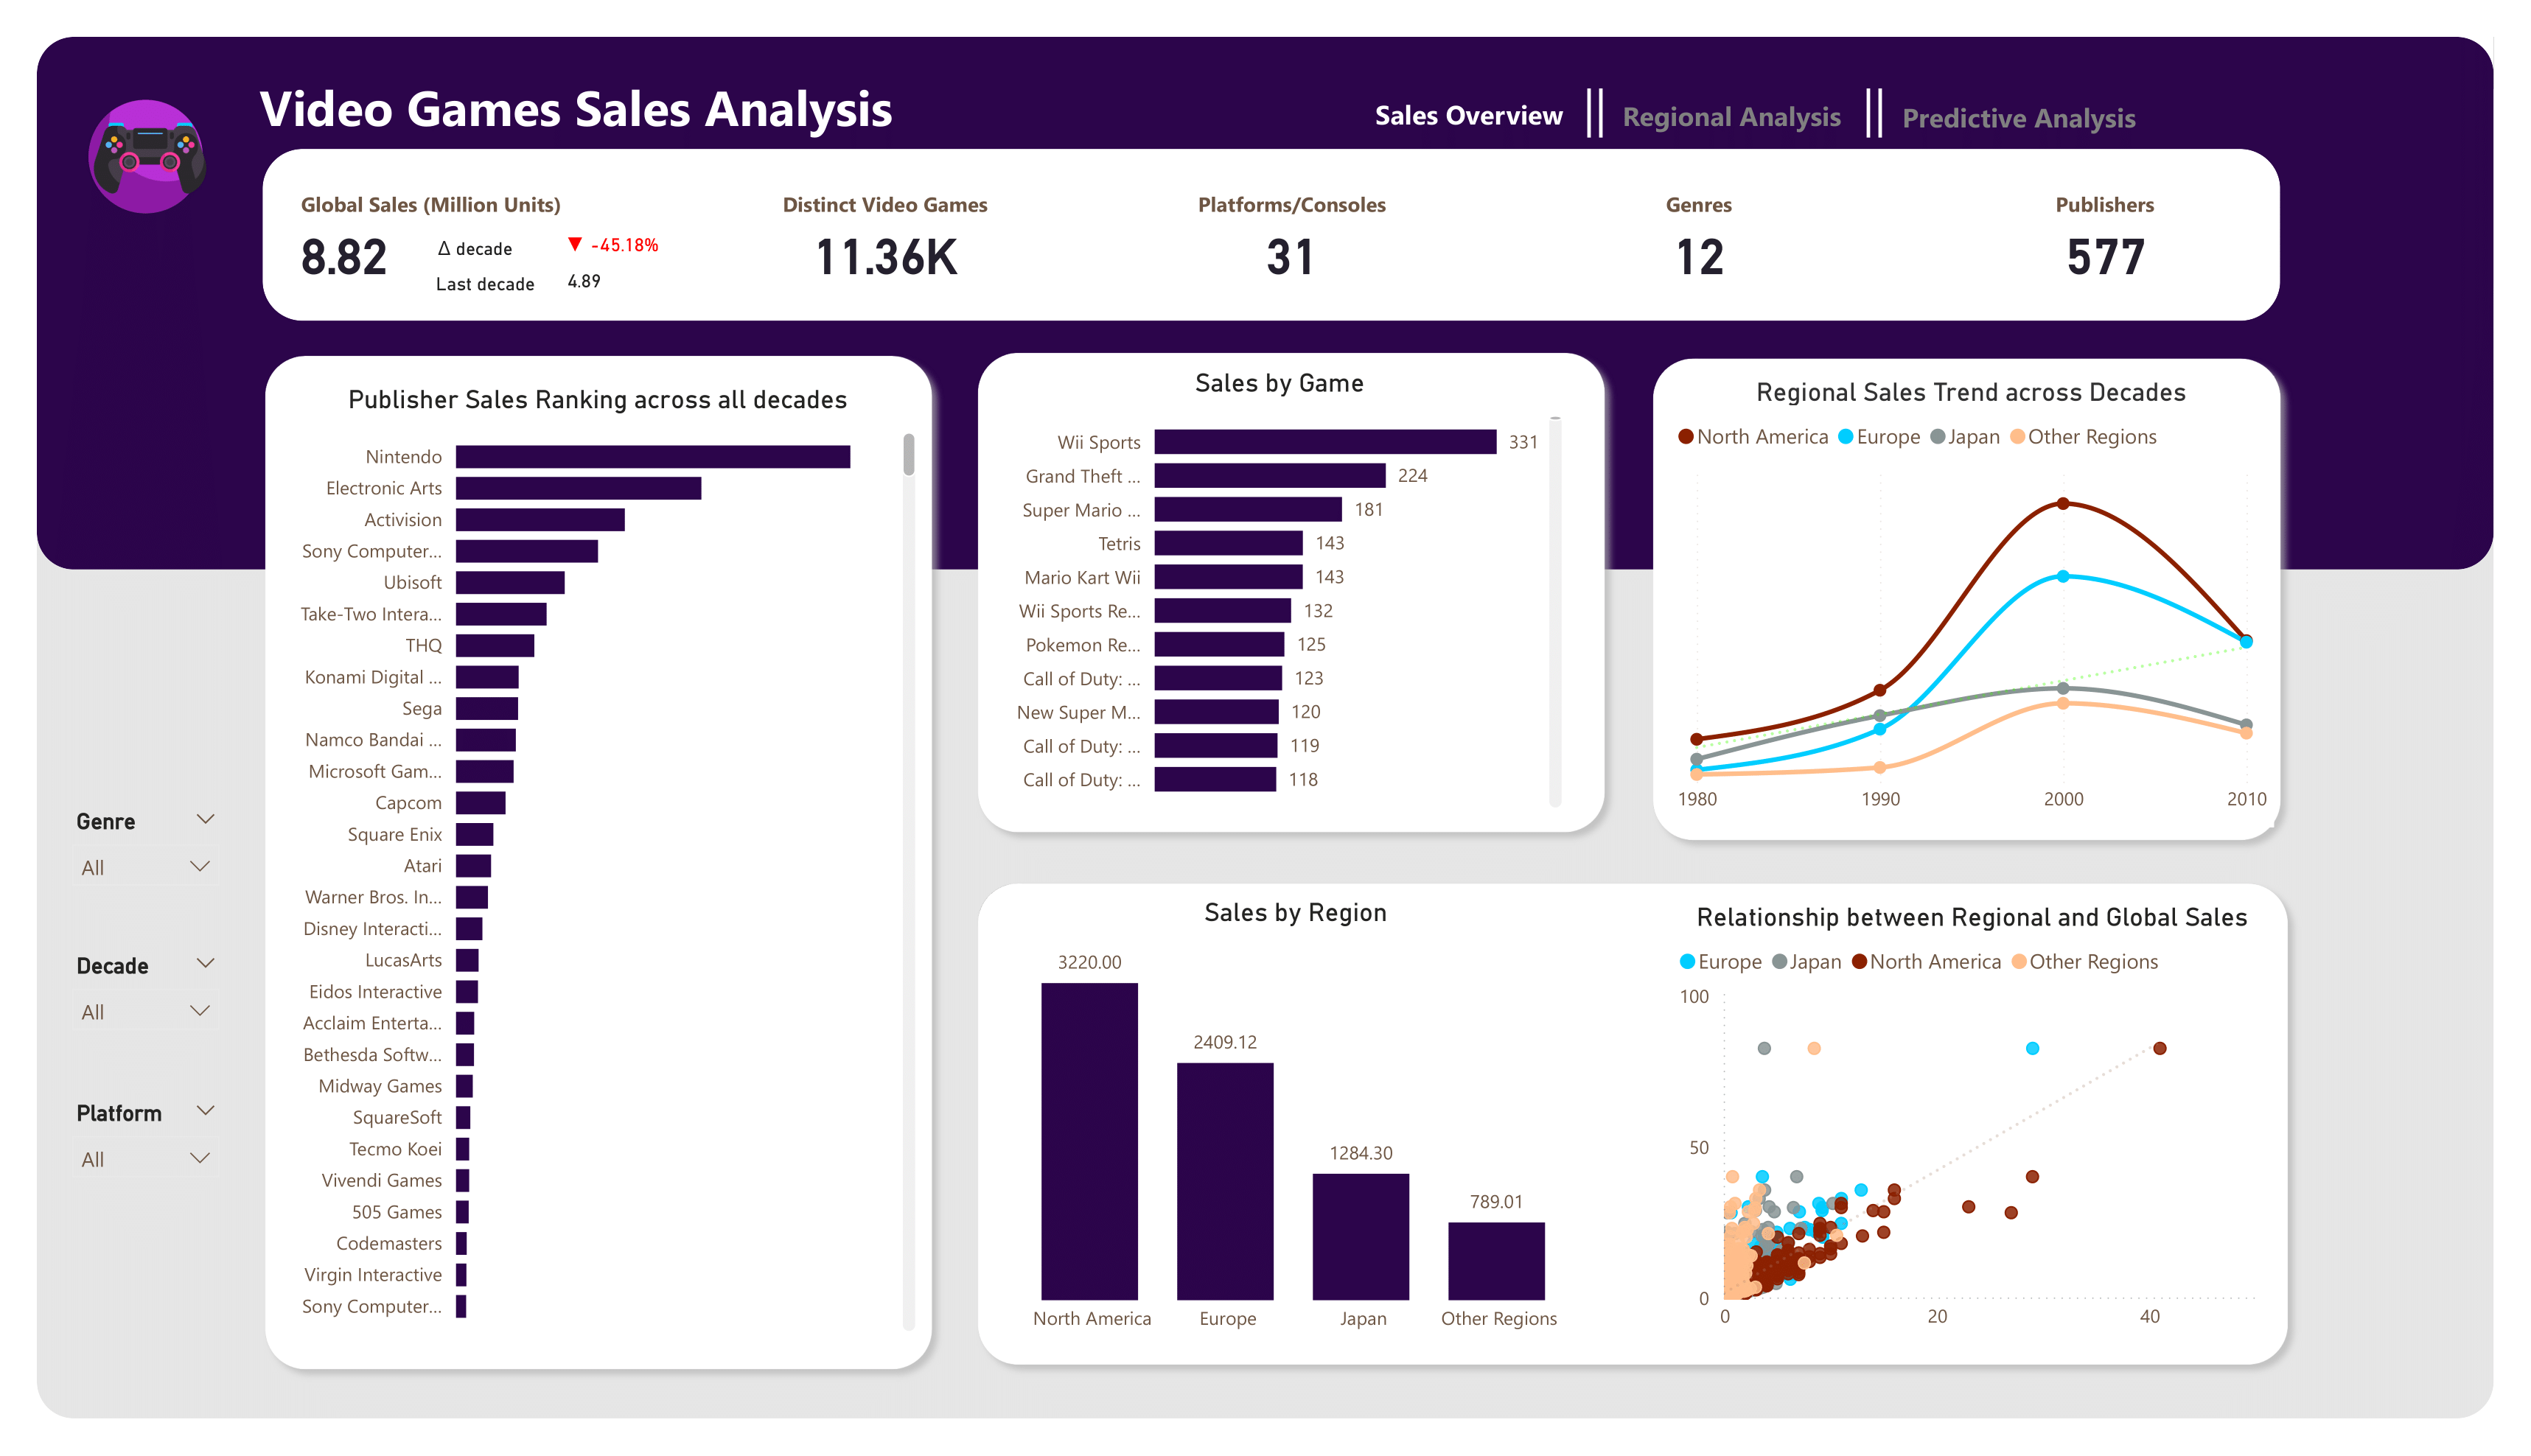

The page's visual inventory and layout, read from the dashboard file:
{"tool":"powerbi","page":{"name":"Global Sales analysis","canvas":[1600,900],"ordinal":0},"visuals":[{"type":"group","id":"g1","title":"wireframe","box":[0,0,1600,900],"z":0},{"type":"actionButton","title":"P.A Button","box":[1196.2,30.7,190,40],"z":0,"group":"g5"},{"type":"cardVisual","fields":{"Data":["vgsales.global_kpi_dax"]},"box":[155,82.5,264.9,107],"z":0,"group":"g2"},{"type":"cardVisual","title":"video games kpi","fields":{"Data":["Count(vgsales.Name)"]},"box":[419.9,82.5,264.9,107],"z":0,"group":"g6"},{"type":"card","fields":{"Values":["vgsales.global_label_DoD"]},"box":[334.6,121.5,80.5,24],"z":0,"group":"g3"},{"type":"shape","box":[0,202,1600,698],"z":0,"group":"g1"},{"type":"slicer","fields":{"Values":["YearRangeSort.year_range"]},"box":[12.9,592.3,116,68],"z":0,"group":"g4"},{"type":"shape","box":[0,0,1600,346.7],"z":1000,"group":"g1"},{"type":"actionButton","title":"Global Button","box":[840,29.4,186.2,40],"z":1000,"group":"g5"},{"type":"group","id":"g2","title":"global sales kpi","box":[155,82.5,264.9,107],"z":1000,"group":"g6"},{"type":"group","id":"g3","title":"kpi sales description","box":[255.3,121.5,159.8,52.6],"z":1000,"group":"g2"},{"type":"card","fields":{"Values":["vgsales.global_PD"]},"box":[334.2,144.8,44.8,22.3],"z":1000,"group":"g3"},{"type":"columnChart","title":"Sales by Region","fields":{"Category":["vgsales with yearrange.Attribute"],"Y":["Sum(vgsales with yearrange.Value)"]},"box":[613.9,559.4,411.8,292.7],"z":1000},{"type":"slicer","fields":{"Values":["vgsales.Platform"]},"box":[12.9,688.3,116,68],"z":1000,"group":"g4"},{"type":"textbox","box":[1001.5,18.2,44,82],"z":2000,"group":"g5"},{"type":"shape","box":[147,73,1314,112],"z":2000,"group":"g1"},{"type":"cardVisual","title":"platform kpi","fields":{"Data":["Count(vgsales.Platform)"]},"box":[684.8,82.5,264.9,107],"z":2000,"group":"g6"},{"type":"textbox","box":[255.3,145.1,88.9,29],"z":2000,"group":"g3"},{"type":"clusteredBarChart","title":"Sales by Game","fields":{"Category":["vgsales with yearrange.Name","vgsales with yearrange.Genre","vgsales with yearrange.Platform"],"Y":["Sum(vgsales with yearrange.Global_Sales)"]},"box":[621.4,214,376.3,292.7],"z":2000},{"type":"slicer","fields":{"Values":["vgsales.Genre"]},"box":[12.9,498.3,116,68],"z":2000,"group":"g4"},{"type":"textbox","box":[1183.5,18.2,44,82],"z":3000,"group":"g5"},{"type":"cardVisual","title":"genre kpi","fields":{"Data":["Count(vgsales.Genre)"]},"box":[949.7,82.5,264.9,107],"z":3000,"group":"g6"},{"type":"textbox","box":[255.8,122.3,75.8,29.4],"z":3000,"group":"g3"},{"type":"shape","box":[140,199,452.3,677.9],"z":3000,"group":"g1"},{"type":"areaChart","title":"Regional Sales Trend across Decades","fields":{"Y":["Sum(vgsales.NA_Sales)","Sum(vgsales.EU_Sales)","Sum(vgsales.JP_Sales)","Sum(vgsales.Other_Sales)"],"Category":["YearRangeSort.DecadeNumeric"]},"box":[1063.1,220.4,393.7,293.3],"z":3000},{"type":"actionButton","box":[1010,29.9,188.3,40],"z":4000,"group":"g5"},{"type":"cardVisual","title":"publisher kpi","fields":{"Data":["Count(vgsales.Publisher)"]},"box":[1214.6,82.5,264.9,107],"z":4000,"group":"g6"},{"type":"shape","box":[603.8,542.4,870.5,330.8],"z":4000,"group":"g1"},{"type":"scatterChart","title":"Relationship between Regional and Global Sales","fields":{"X":["vgsales with yearrange.Value"],"Y":["vgsales with yearrange.Global_Sales"],"Series":["vgsales with yearrange.region"]},"box":[1063.4,562.3,393.5,288.7],"z":4000},{"type":"shape","title":"Shape","box":[1044.3,200.1,426.4,330.7],"z":5000,"group":"g1"},{"type":"barChart","title":"Publisher Sales Ranking across all decades","fields":{"Category":["vgsales with yearrange.Publisher"],"Y":["vgsales.global_dax"]},"box":[153.8,226,422.9,621.6],"z":5000},{"type":"textbox","box":[140,18,428,102],"z":6000},{"type":"shape","box":[604,196.5,426,330],"z":6000,"group":"g1"},{"type":"image","box":[22.5,35,98.8,86.2],"z":7000},{"type":"group","id":"g4","title":"Slicers","box":[12.9,498.3,116,258],"z":8000},{"type":"group","id":"g5","title":"buttons","box":[840,18.2,546.2,82],"z":9000},{"type":"group","id":"g6","title":"kpis","box":[155,82.5,1325,107.5],"z":10000}]}

Visuals, with their boxes on the page's 1600x900 design canvas (x1, y1, x2, y2). These are canvas units, not pixel positions in the 2531x1456 screenshot, which may show the page scaled, cropped or inside an application window:
"wireframe" group: {"left": 0, "top": 0, "right": 1600, "bottom": 900}
"P.A Button" actionButton: {"left": 1196, "top": 31, "right": 1386, "bottom": 71}
cardVisual - vgsales.global_kpi_dax: {"left": 155, "top": 82, "right": 420, "bottom": 190}
"video games kpi" cardVisual: {"left": 420, "top": 82, "right": 685, "bottom": 190}
card - vgsales.global_label_DoD: {"left": 335, "top": 122, "right": 415, "bottom": 146}
shape: {"left": 0, "top": 202, "right": 1600, "bottom": 900}
slicer - YearRangeSort.year_range: {"left": 13, "top": 592, "right": 129, "bottom": 660}
shape: {"left": 0, "top": 0, "right": 1600, "bottom": 347}
"Global Button" actionButton: {"left": 840, "top": 29, "right": 1026, "bottom": 69}
"global sales kpi" group: {"left": 155, "top": 82, "right": 420, "bottom": 190}
"kpi sales description" group: {"left": 255, "top": 122, "right": 415, "bottom": 174}
card - vgsales.global_PD: {"left": 334, "top": 145, "right": 379, "bottom": 167}
"Sales by Region" columnChart: {"left": 614, "top": 559, "right": 1026, "bottom": 852}
slicer - vgsales.Platform: {"left": 13, "top": 688, "right": 129, "bottom": 756}
textbox: {"left": 1002, "top": 18, "right": 1046, "bottom": 100}
shape: {"left": 147, "top": 73, "right": 1461, "bottom": 185}
"platform kpi" cardVisual: {"left": 685, "top": 82, "right": 950, "bottom": 190}
textbox: {"left": 255, "top": 145, "right": 344, "bottom": 174}
"Sales by Game" clusteredBarChart: {"left": 621, "top": 214, "right": 998, "bottom": 507}
slicer - vgsales.Genre: {"left": 13, "top": 498, "right": 129, "bottom": 566}
textbox: {"left": 1184, "top": 18, "right": 1228, "bottom": 100}
"genre kpi" cardVisual: {"left": 950, "top": 82, "right": 1215, "bottom": 190}
textbox: {"left": 256, "top": 122, "right": 332, "bottom": 152}
shape: {"left": 140, "top": 199, "right": 592, "bottom": 877}
"Regional Sales Trend across Decades" areaChart: {"left": 1063, "top": 220, "right": 1457, "bottom": 514}
actionButton: {"left": 1010, "top": 30, "right": 1198, "bottom": 70}
"publisher kpi" cardVisual: {"left": 1215, "top": 82, "right": 1480, "bottom": 190}
shape: {"left": 604, "top": 542, "right": 1474, "bottom": 873}
"Relationship between Regional and Global Sales" scatterChart: {"left": 1063, "top": 562, "right": 1457, "bottom": 851}
"Shape" shape: {"left": 1044, "top": 200, "right": 1471, "bottom": 531}
"Publisher Sales Ranking across all decades" barChart: {"left": 154, "top": 226, "right": 577, "bottom": 848}
textbox: {"left": 140, "top": 18, "right": 568, "bottom": 120}
shape: {"left": 604, "top": 196, "right": 1030, "bottom": 526}
image: {"left": 22, "top": 35, "right": 121, "bottom": 121}
"Slicers" group: {"left": 13, "top": 498, "right": 129, "bottom": 756}
"buttons" group: {"left": 840, "top": 18, "right": 1386, "bottom": 100}
"kpis" group: {"left": 155, "top": 82, "right": 1480, "bottom": 190}
